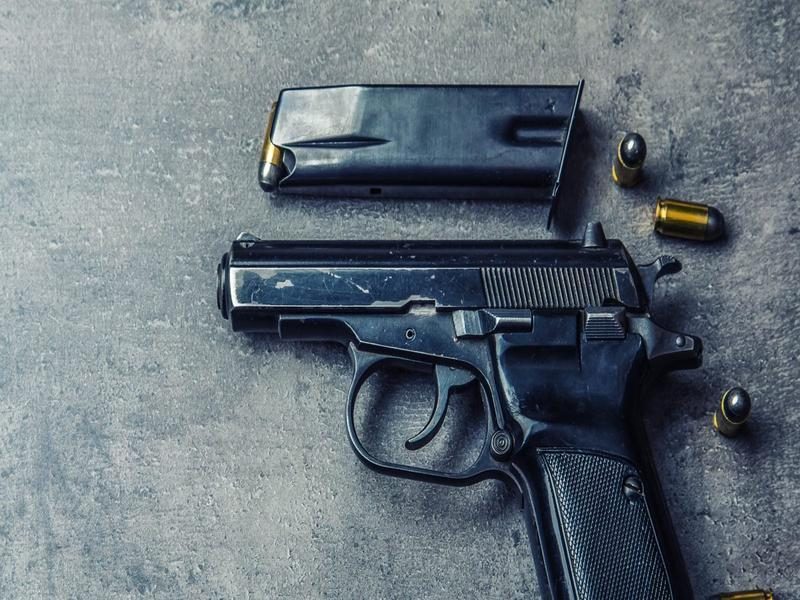GUN: (214, 217, 708, 600)
